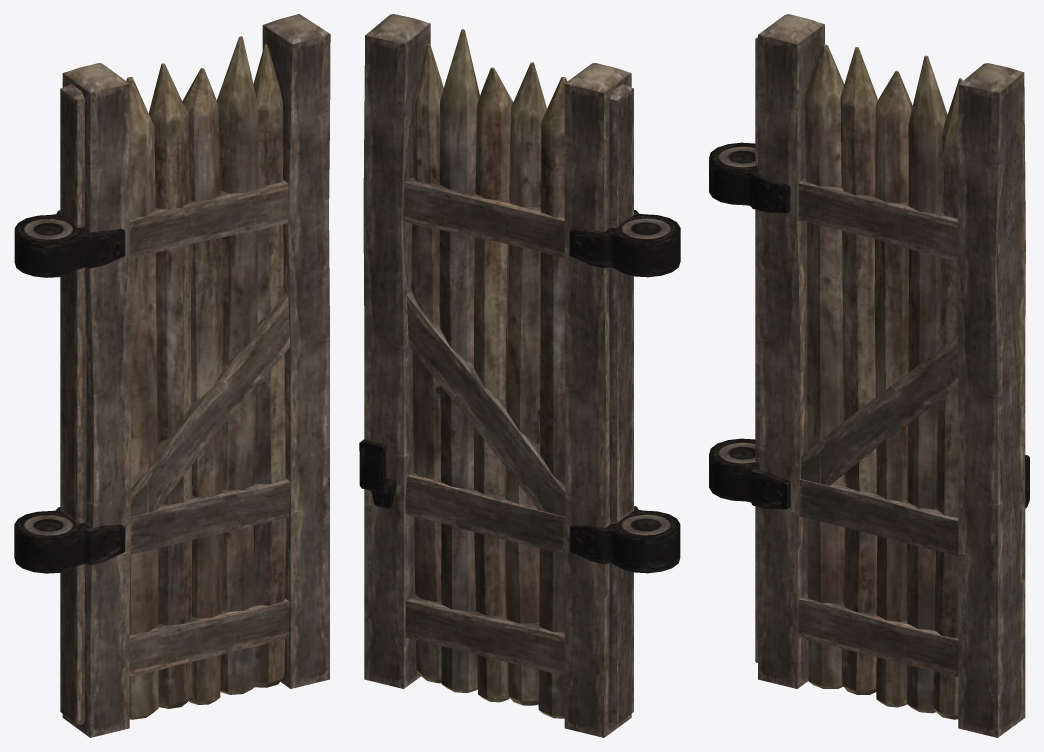
File: jav_struc_def_log_or_t2_gatea-transformed.glb
3 views of the same model, side by side, from view 1: azimuth 30°, elevation 25°; view 2: azimuth 150°, elevation 25°; view 3: azimuth 330°, elevation 25° (orthographic).
Parts seen in each view (by area): view 1: default; view 2: default; view 3: default.
Part boxes in pixels (left/top/right/bottom): default: left=14, top=14, right=330, bottom=737; default: left=359, top=14, right=680, bottom=737; default: left=709, top=14, right=1029, bottom=737.
Size of the model in its own units: 1.81 by 3.81 by 0.4774.
Materials: 1 (1 with a texture image).
